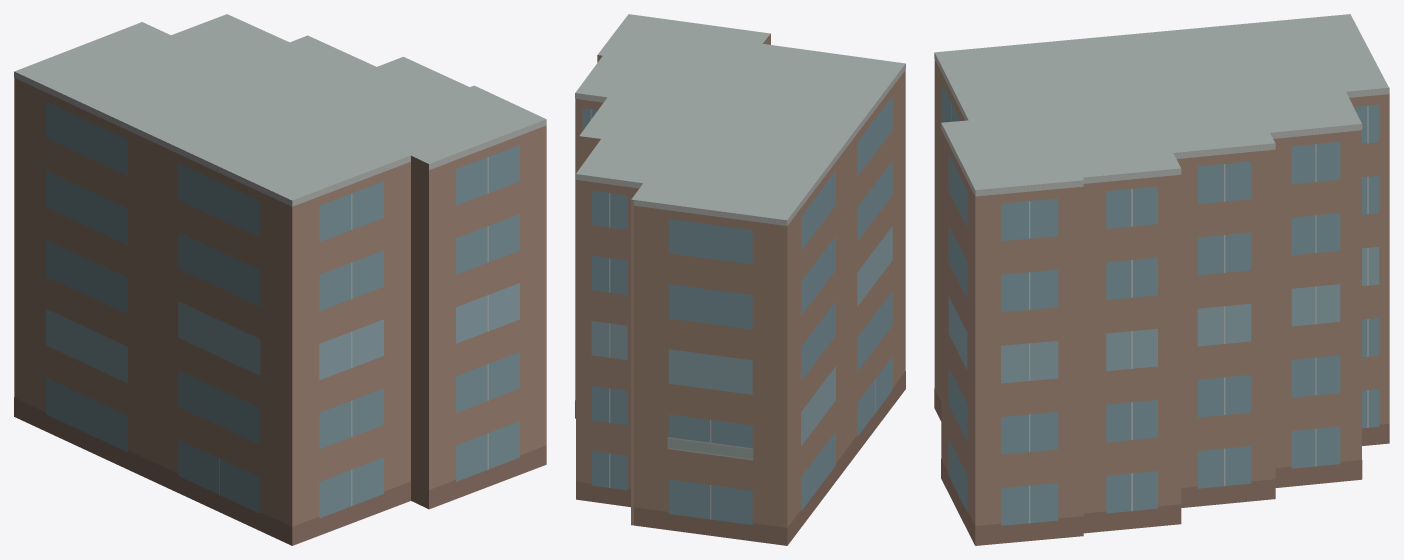
Rendered from survey-upis-32646340.glb.
The picture shows the model from 3 angles, left to right: view 1: azimuth 30°, elevation 25°; view 2: azimuth 150°, elevation 25°; view 3: azimuth 270°, elevation 25°; orthographic projection. The views are drawn at different scales.
Parts seen in each view (by area): view 1: survey-upis-32646340.tmp; view 2: survey-upis-32646340.tmp; view 3: survey-upis-32646340.tmp.
Part boxes in pixels (left/top/right/bottom): survey-upis-32646340.tmp: left=14, top=14, right=546, bottom=545; survey-upis-32646340.tmp: left=575, top=14, right=905, bottom=545; survey-upis-32646340.tmp: left=934, top=14, right=1389, bottom=545.
Size of the model in its own units: 14.56 by 13.7 by 15.89.
